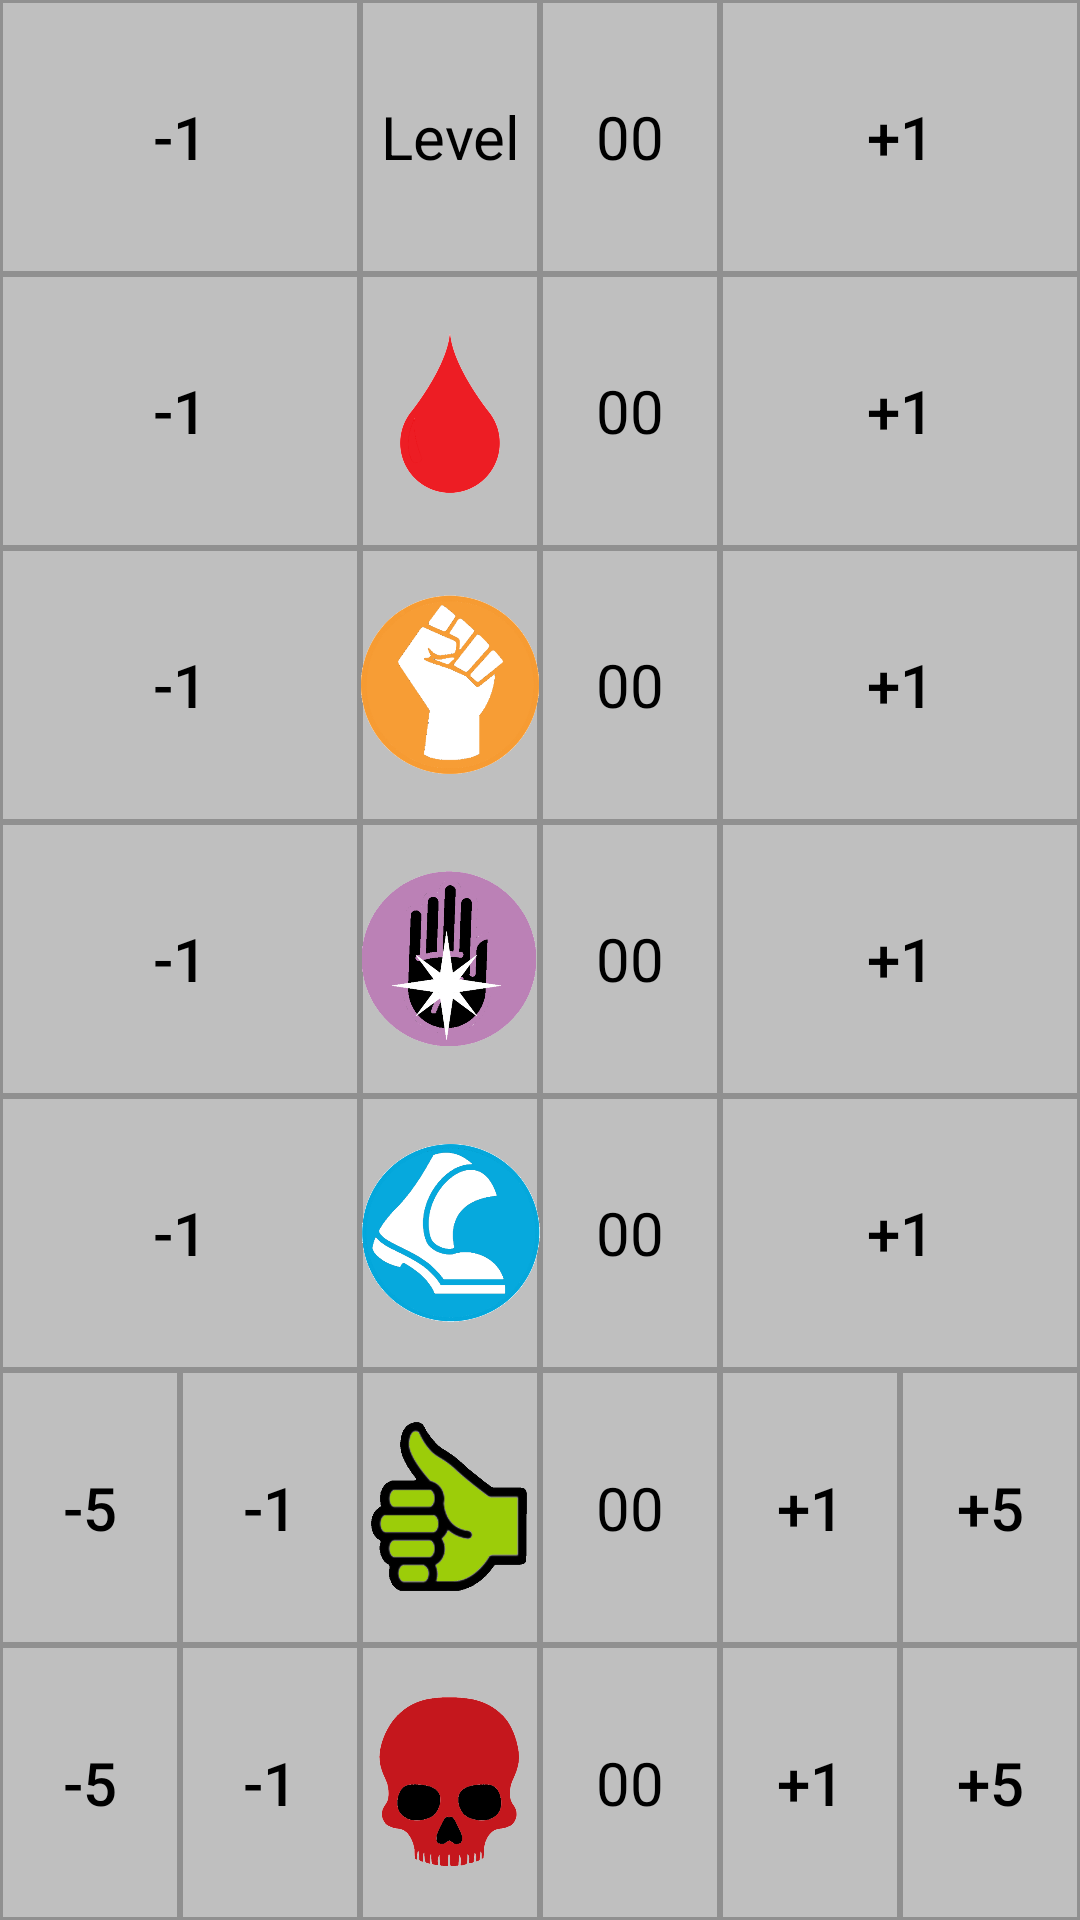

Point at icon controls on the screen. Image size 1080×1920, points as (x,y).
action: (451,1233)
glory: (450,1507)
magic: (449,959)
peril: (450,1782)
strength: (450,685)
